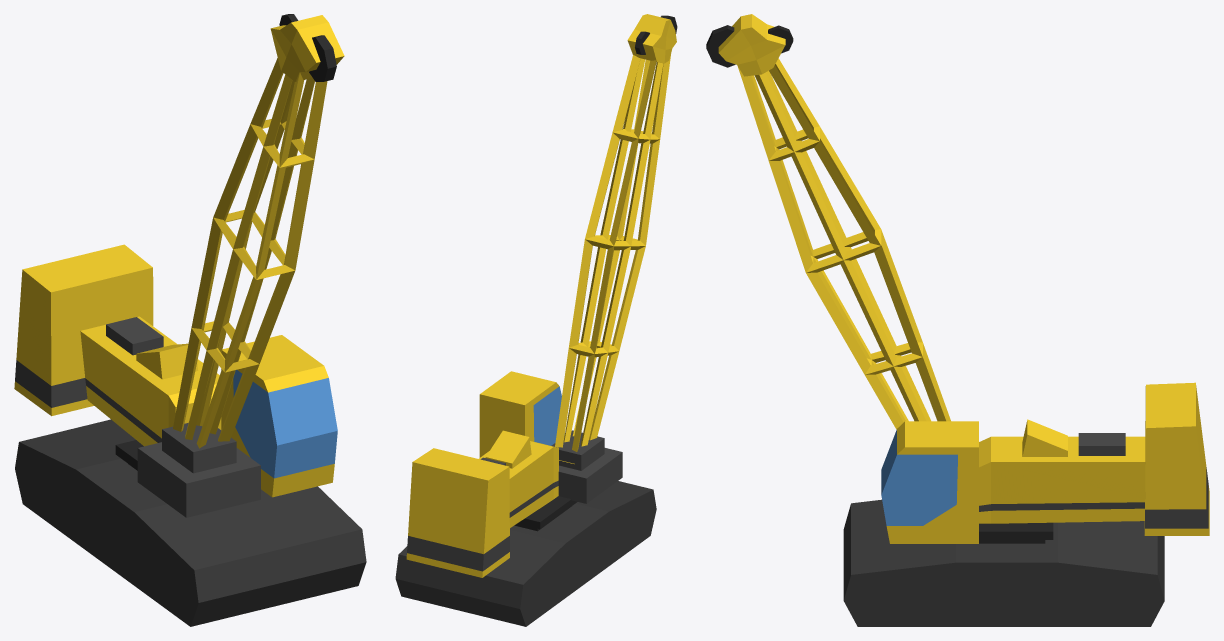
Rendered from Grua.fbx.
The picture shows the model from 3 angles, left to right: view 1: azimuth 30°, elevation 25°; view 2: azimuth 150°, elevation 25°; view 3: azimuth 270°, elevation 25°; orthographic projection. The views are drawn at different scales.
Parts seen in each view (by area): view 1: Cube.002, Cube, Cube.005, Cube.004, Cube.006, Cylinder.003, Cube.001; view 2: Cube.002, Cube.005, Cube, Cube.004, Cube.006, Cube.001; view 3: Cube.002, Cube, Cube.005, Cube.006, Cube.001.
Part boxes in pixels (box(x1,y1,x2,y2)): Cube.002: box(14, 244, 337, 497); Cube: box(15, 419, 366, 626); Cube.005: box(173, 58, 327, 448); Cube.004: box(137, 423, 260, 517); Cube.006: box(270, 15, 344, 81); Cylinder.003: box(309, 35, 336, 81); Cube.001: box(115, 440, 143, 470); Cube.002: box(406, 371, 564, 577); Cube.005: box(555, 55, 670, 464); Cube: box(395, 481, 656, 626); Cube.004: box(551, 430, 622, 503); Cube.006: box(627, 14, 676, 63); Cube.001: box(514, 496, 577, 531); Cube.002: box(881, 382, 1209, 543); Cube: box(843, 499, 1164, 626); Cube.005: box(738, 58, 950, 429); Cube.006: box(718, 14, 785, 76); Cube.001: box(979, 522, 1053, 543).
Size of the model in its own units: 122 by 445 by 363.
